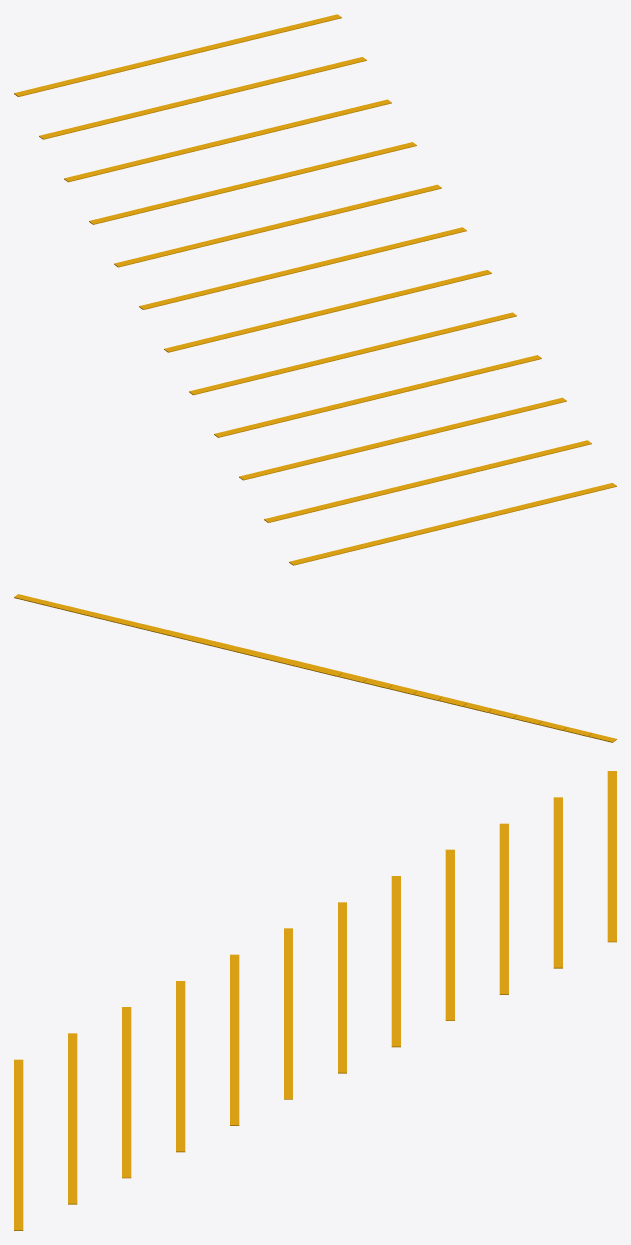
Rendered from gteki_ik_stair_n12_r171_t319_w2400_nosing.glb.
3 views of the same model, one above another, from view 1: azimuth 30°, elevation 25°; view 2: azimuth 150°, elevation 25°; view 3: azimuth 270°, elevation 25° (orthographic). The views are drawn at different scales.
Visible parts, largest first — view 1: VIS_body; view 2: VIS_body; view 3: VIS_body.
Boxes of the visible parts, x1,y1,x2,y2 form: VIS_body: [14, 14, 616, 565]; VIS_body: [14, 594, 616, 742]; VIS_body: [14, 771, 616, 1230].
Size of the model in its own units: 2.38 by 1.89 by 3.56.
Materials: 1 (1 with a texture image).
